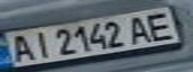1: (69, 23, 90, 53)
2: (103, 17, 130, 48), (51, 25, 75, 56)
4: (87, 20, 109, 51)
A: (3, 32, 39, 63), (124, 12, 157, 44)
E: (139, 9, 181, 42)
I: (27, 29, 54, 60)
